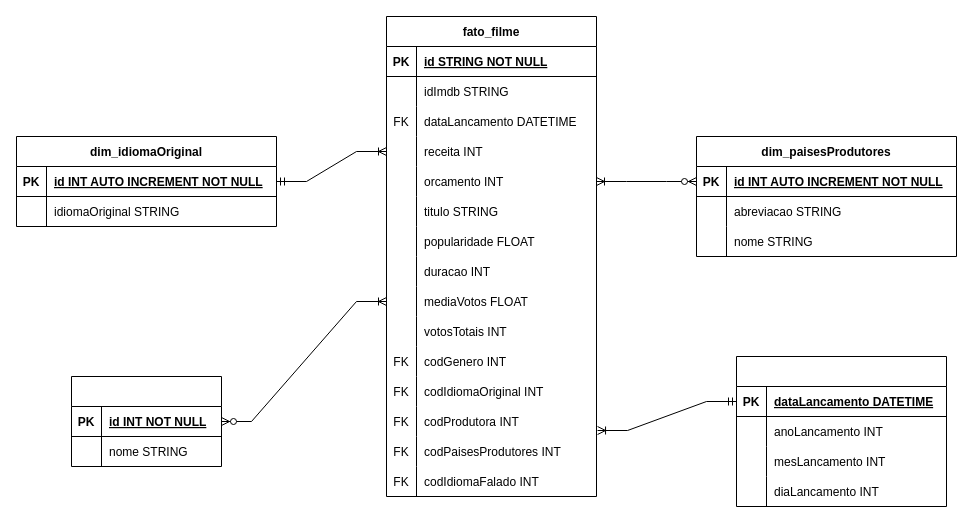
Image size: 973x523. Some labels were removed from this diagram. Each missing label, with the box of its shape:
dim_genero: (70, 376, 222, 466)
dim_tempo: (736, 356, 946, 506)
